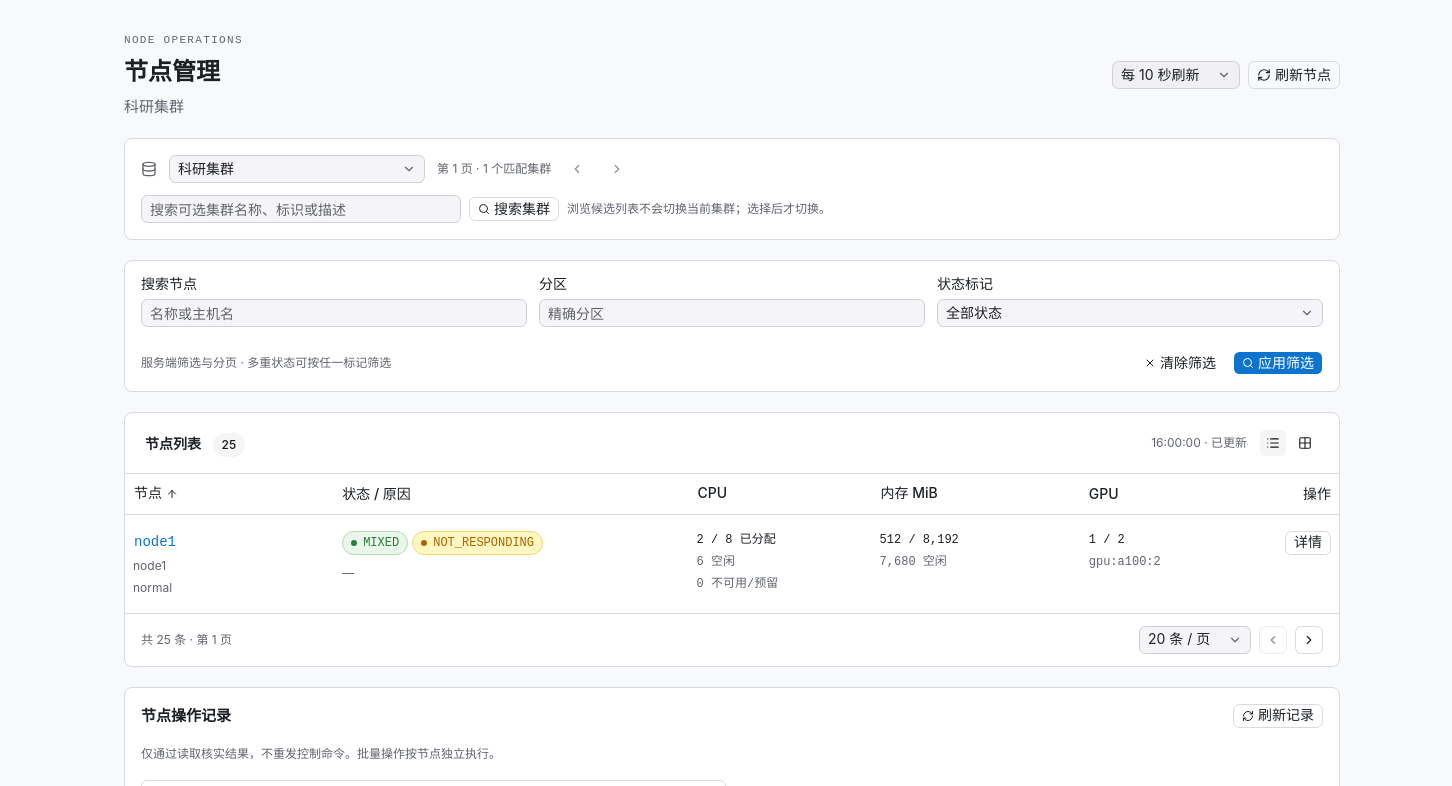
it: 操作核实成功后立即刷新节点快照，不继续展示旧的等待注册标记
This screenshot has width=1452, height=786.
Expected: the text "NOT_RESPONDING" is shown, [433, 534, 534, 552]
Click the button "刷新记录".
click(1278, 716)  # box [1233, 704, 1323, 728]
(page scrolled)
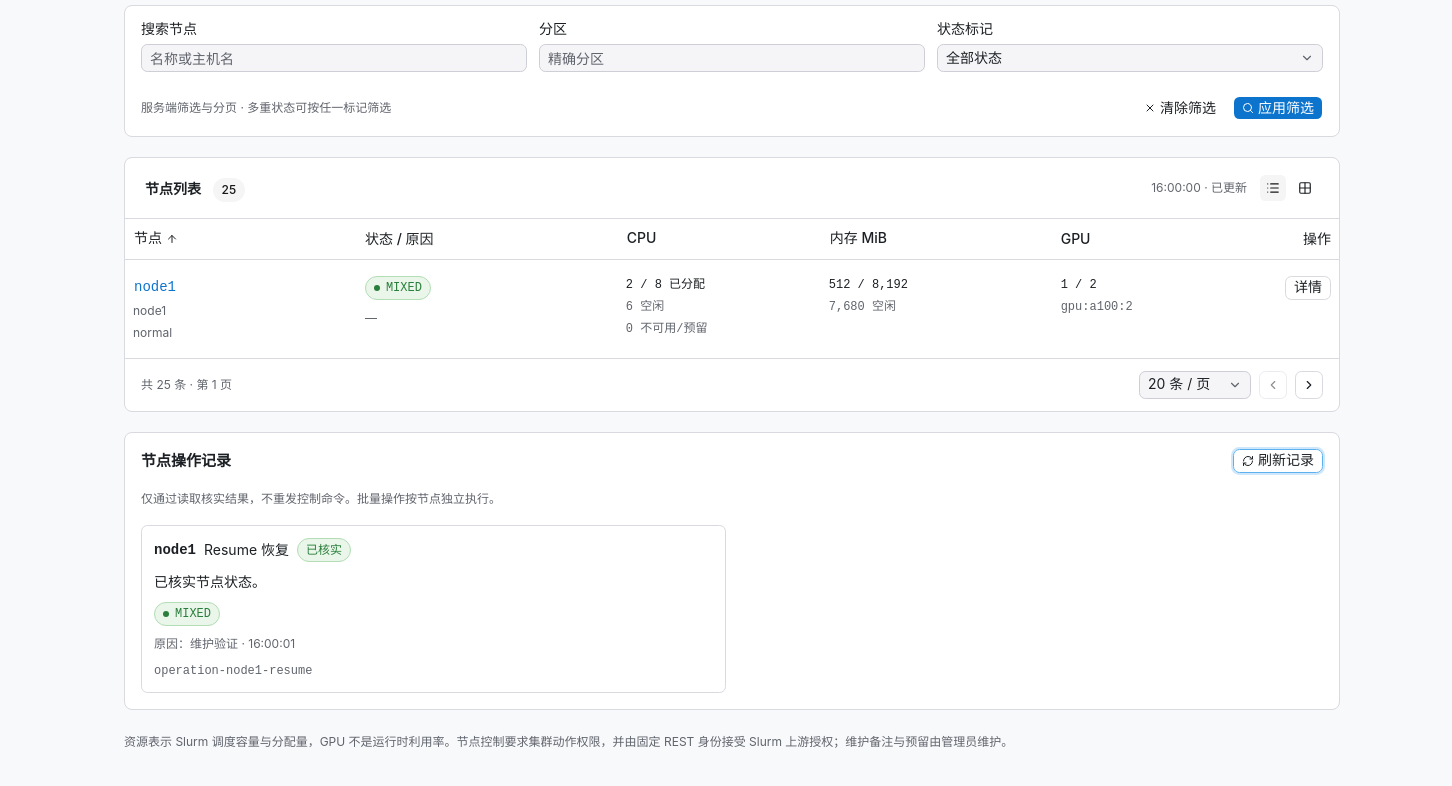
Expected: the icon "已核实" is shown, [297, 538, 351, 562]
Expected: the text "NOT_RESPONDING" is gone
